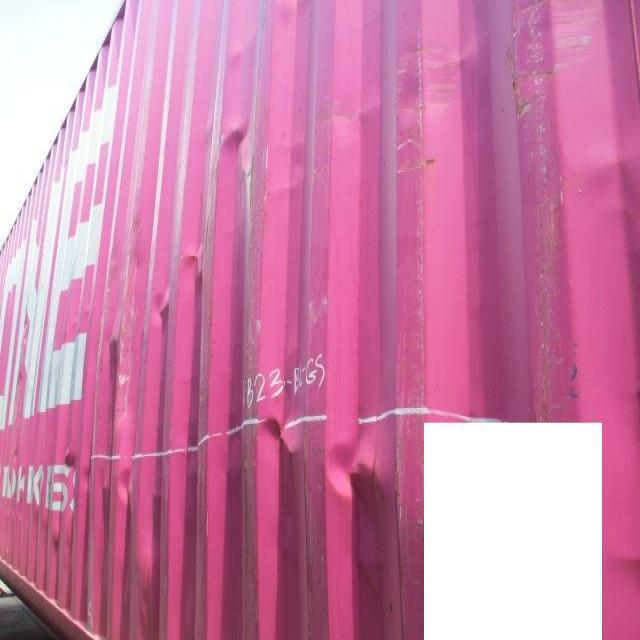Dent: (255, 396, 404, 567)
Minor-Dent: (96, 232, 216, 392), (86, 453, 167, 640)
